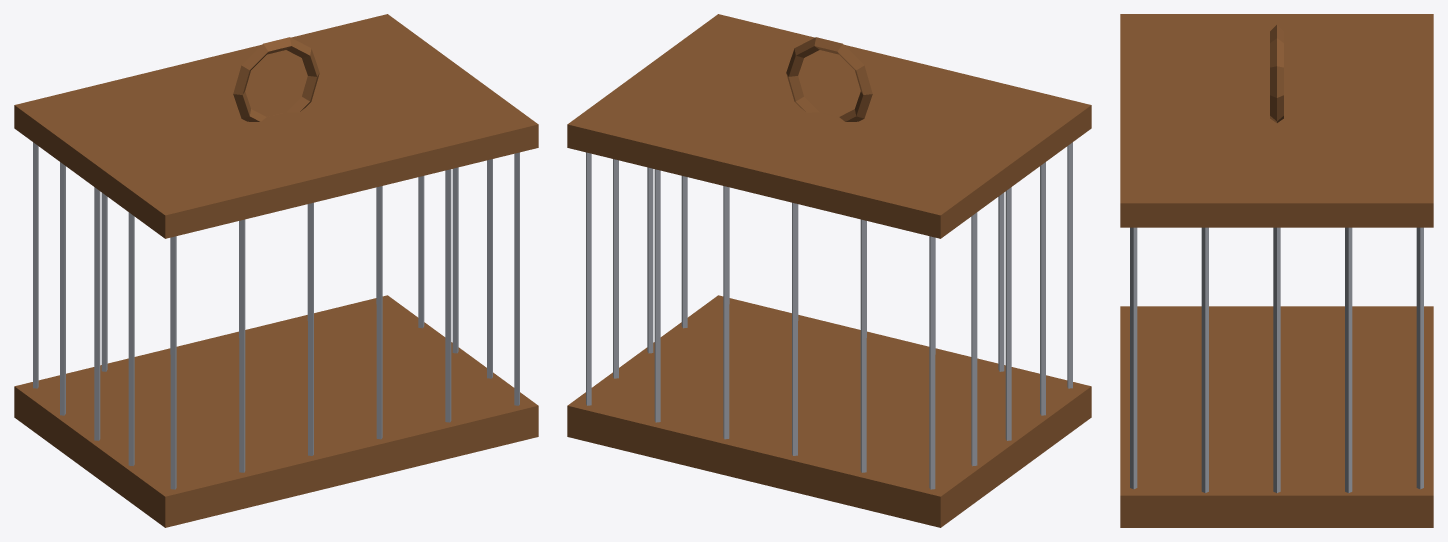
File: pigeon_cage.glb
3 views of the same model, side by side, from view 1: azimuth 30°, elevation 25°; view 2: azimuth 150°, elevation 25°; view 3: azimuth 270°, elevation 25° (orthographic). The views are drawn at different scales.
Visible parts, largest first — view 1: cage_cage_wood (×3), bars_cage_wire (×14); view 2: cage_cage_wood (×3), bars_cage_wire (×14); view 3: cage_cage_wood (×3), bars_cage_wire (×5).
Part boxes in pixels (box(x1,y1,x2,y2)): cage_cage_wood (×3): box(14, 14, 538, 527); bars_cage_wire (×14): box(33, 142, 519, 489); cage_cage_wood (×3): box(567, 14, 1091, 527); bars_cage_wire (×14): box(586, 142, 1072, 489); cage_cage_wood (×3): box(1120, 14, 1433, 527); bars_cage_wire (×5): box(1130, 227, 1423, 493).
Size of the model in its own units: 0.5 by 0.4952 by 0.35.
